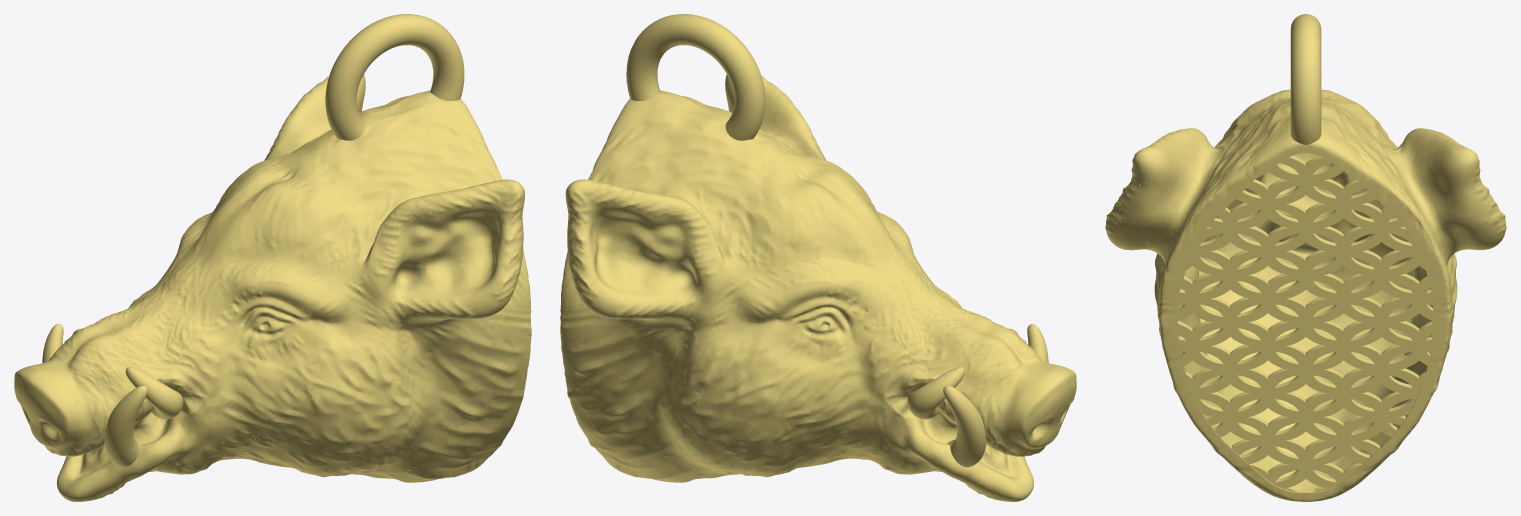
The model's file is pig.glb.
3 views of the same model, side by side, from view 1: azimuth 30°, elevation 25°; view 2: azimuth 150°, elevation 25°; view 3: azimuth 270°, elevation 25° (orthographic).
Parts seen in each view (by area): view 1: Renderer Node; view 2: Renderer Node; view 3: Renderer Node.
Part boxes in pixels (x1,y1,x2,y2): Renderer Node: [14, 14, 531, 501]; Renderer Node: [560, 14, 1076, 501]; Renderer Node: [1105, 14, 1506, 501].
Size of the model in its own units: 33.74 by 34.13 by 27.3.
